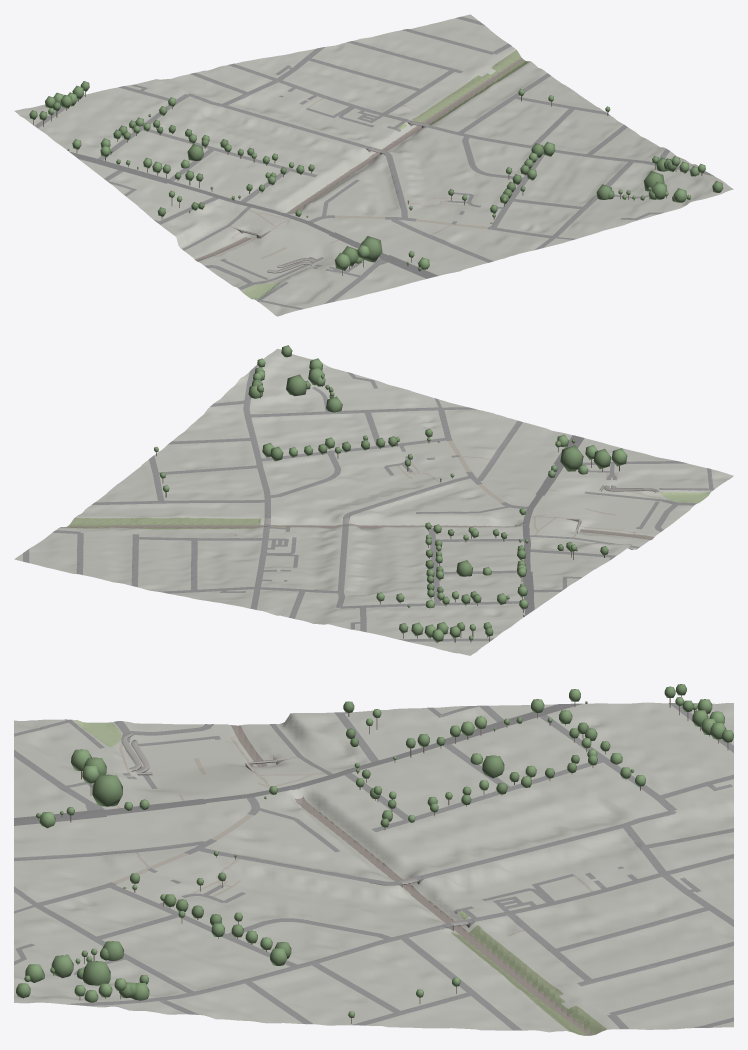
3 renders of one model, top to bottom at view 1: azimuth 30°, elevation 25°; view 2: azimuth 150°, elevation 25°; view 3: azimuth 270°, elevation 25°, orthographic. The views are drawn at different scales.
Parts seen in each view (by area): view 1: t06_10_terrain, t06_10_roads_minor, t06_10_trees_mapped, t06_10_roads_major, t06_10_rail, way/106495755@t06_10, t06_10_roads_path; view 2: t06_10_terrain, t06_10_roads_minor, t06_10_trees_mapped, way/106495755@t06_10, t06_10_roads_major, t06_10_rail, t06_10_roads_path; view 3: t06_10_terrain, t06_10_roads_minor, t06_10_trees_mapped, t06_10_roads_major, t06_10_rail, way/106495755@t06_10, t06_10_roads_path, way/69641555@t06_10.
Boxes of the visible parts, x1,y1,x2,y2 form: t06_10_terrain: [14, 14, 733, 316]; t06_10_roads_minor: [34, 16, 714, 309]; t06_10_trees_mapped: [29, 81, 723, 275]; t06_10_roads_major: [69, 151, 438, 278]; t06_10_rail: [195, 57, 523, 261]; way/106495755@t06_10: [412, 50, 530, 125]; t06_10_roads_path: [214, 98, 488, 282]; t06_10_terrain: [14, 348, 733, 655]; t06_10_roads_minor: [23, 364, 714, 641]; t06_10_trees_mapped: [154, 345, 627, 642]; way/106495755@t06_10: [60, 517, 260, 529]; t06_10_roads_major: [522, 435, 584, 615]; t06_10_rail: [66, 523, 654, 539]; t06_10_roads_path: [234, 440, 663, 567]; t06_10_terrain: [14, 702, 733, 1035]; t06_10_roads_minor: [14, 703, 733, 1030]; t06_10_trees_mapped: [16, 684, 733, 1023]; t06_10_roads_major: [14, 703, 582, 825]; t06_10_rail: [231, 725, 593, 1035]; way/106495755@t06_10: [451, 925, 607, 1035]; t06_10_roads_path: [93, 736, 592, 936]; way/69641555@t06_10: [76, 720, 121, 747].
Bounding box in the file's own units: 503 × 37.96 × 500.
